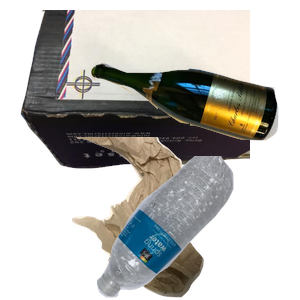cardboard: (18, 10, 258, 171)
glass: (88, 60, 300, 193)
plastic: (94, 156, 300, 300)
trash: (66, 137, 263, 300)
